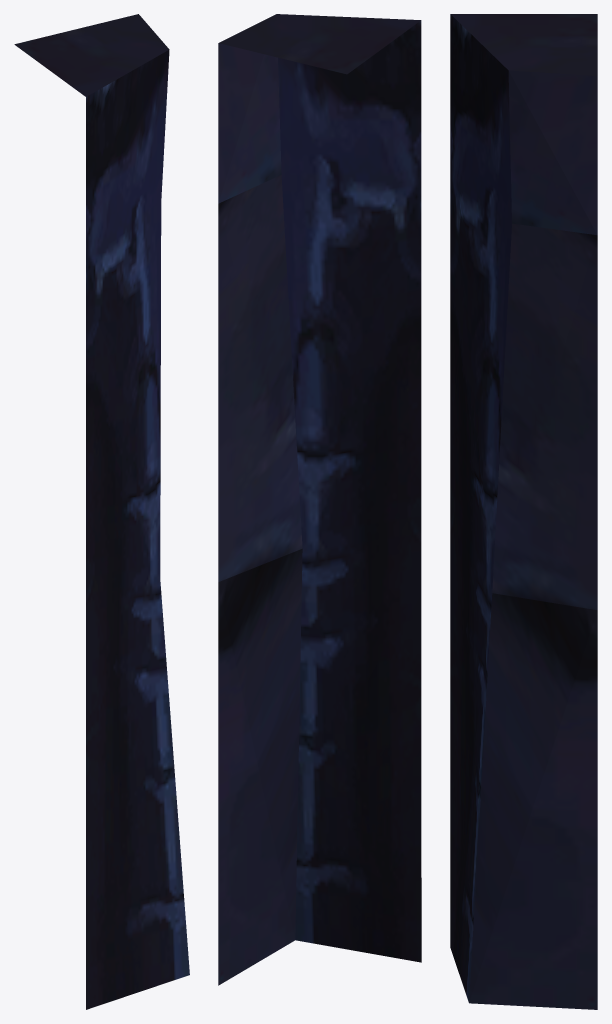
The model's file is palace_half_convex_03.fbx.
3 renders of one model, left to right at view 1: azimuth 30°, elevation 25°; view 2: azimuth 150°, elevation 25°; view 3: azimuth 270°, elevation 25°, orthographic. The views are drawn at different scales.
Parts seen in each view (by area): view 1: palace_half_convex_03-0; view 2: palace_half_convex_03-0; view 3: palace_half_convex_03-0.
Part boxes in pixels (left/top/right/bottom): palace_half_convex_03-0: left=14, top=14, right=189, bottom=1009; palace_half_convex_03-0: left=218, top=14, right=421, bottom=985; palace_half_convex_03-0: left=450, top=14, right=597, bottom=1009.
Bounding box in the file's own units: 0.393 × 2.78 × 0.393.
